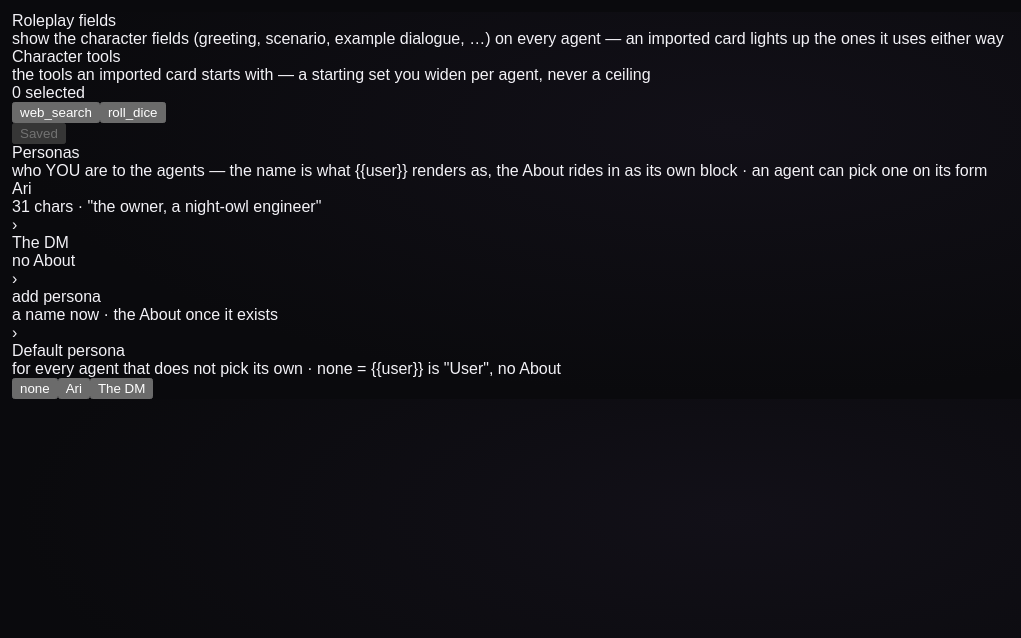
Conf › Roleplay · add (POST, the server mints) › a 409 (the minted slug is taken) shows INLINE under the name — no toast — and clears on edit
Step 1. Click the button "add persona" → x=145, y=314, box [12, 288, 278, 341]
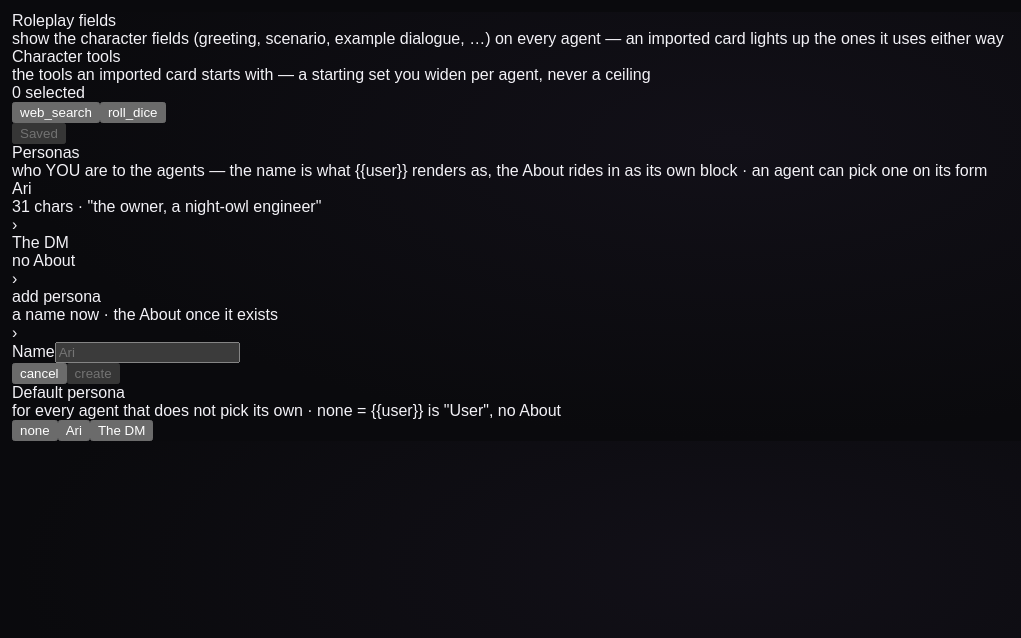
Step 2. Type "ARI" into the field named "New persona name" → x=147, y=352, box [55, 342, 240, 363]
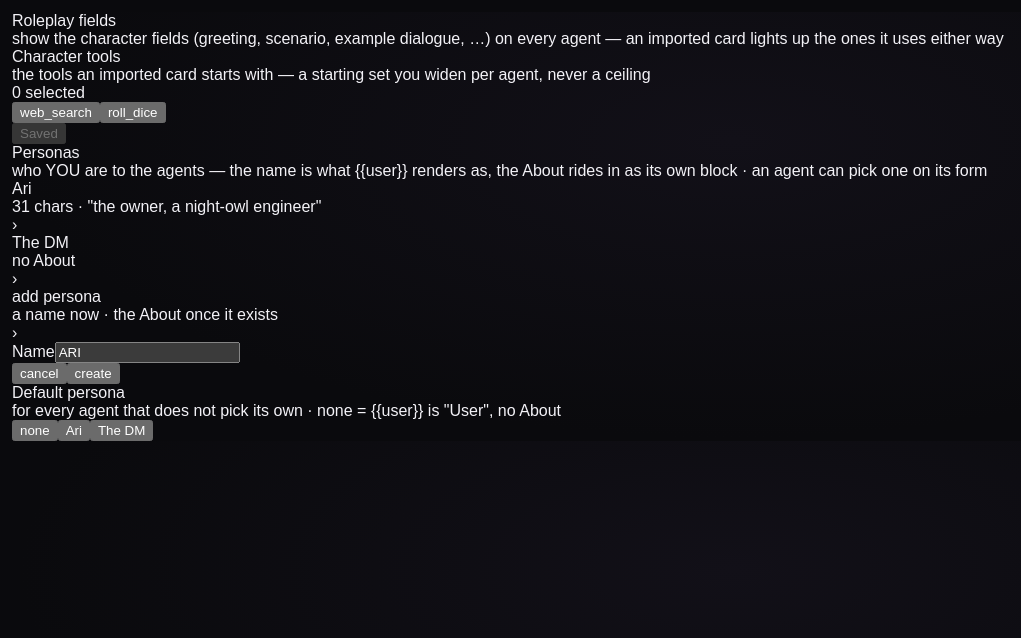
Step 3. Click the button "create" → x=93, y=374, box [66, 363, 120, 384]
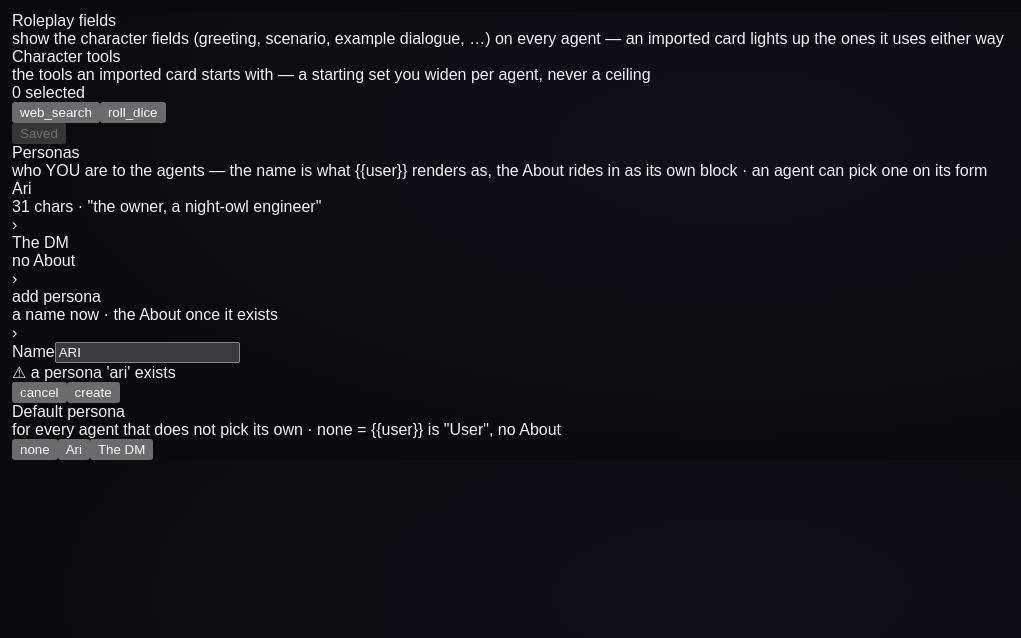
Check: the message shows "a persona 'ari' exists", box [31, 364, 176, 381]
Step 4. Replace the text in the field named "New persona name" with "Ari II" → x=147, y=352, box [55, 342, 240, 363]
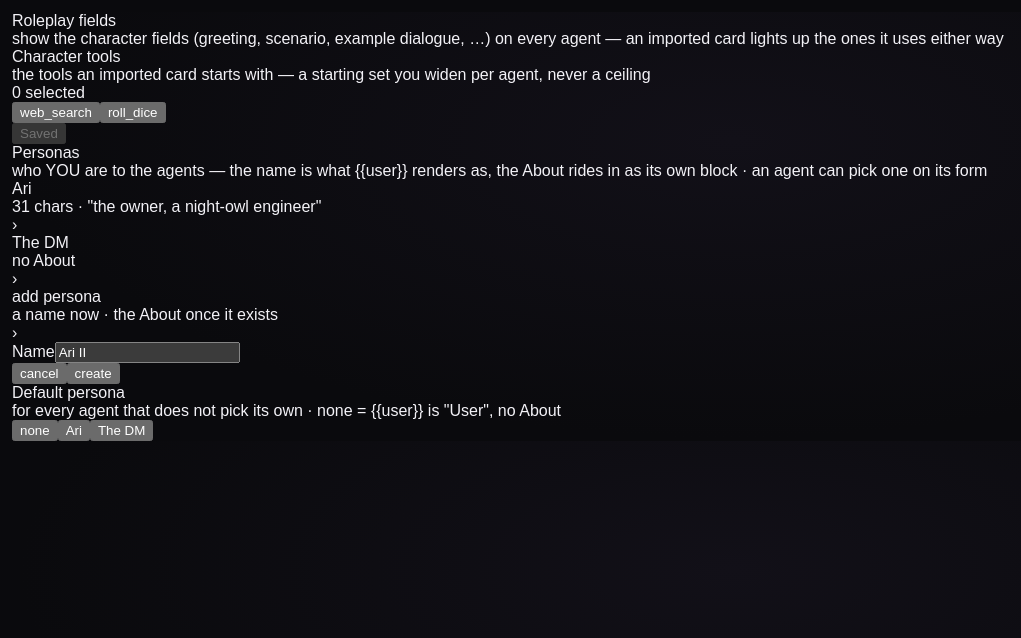
Check: the message "⚠ a persona 'ari' exists" is gone
